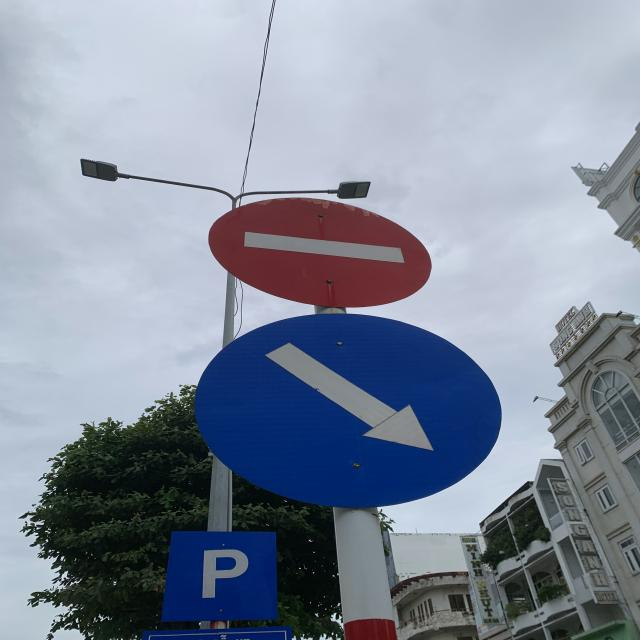Cam_Di_Nguoc_Chieu: (205, 192, 432, 308)
Chi_Huong_Di_Phai: (194, 310, 510, 516)
